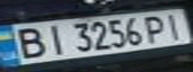2: (87, 18, 112, 52)
3: (69, 19, 93, 53)
5: (106, 17, 130, 50)
6: (121, 15, 148, 46)
B: (6, 25, 51, 60)
I: (39, 21, 69, 55), (160, 11, 190, 39)
P: (139, 12, 172, 44)
